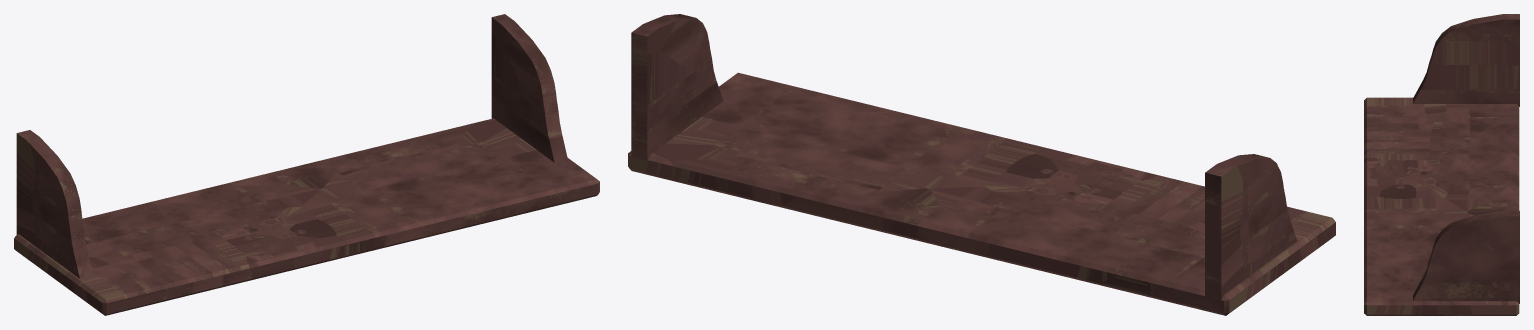
The picture shows the model from 3 angles, left to right: view 1: azimuth 30°, elevation 25°; view 2: azimuth 150°, elevation 25°; view 3: azimuth 270°, elevation 25°; orthographic projection. The views are drawn at different scales.
Parts seen in each view (by area): view 1: shelf_low; view 2: shelf_low; view 3: shelf_low.
Boxes of the visible parts, x1,y1,x2,y2 form: shelf_low: (14, 14, 599, 315); shelf_low: (628, 14, 1335, 315); shelf_low: (1364, 14, 1519, 315).
Size of the model in its own units: 628 by 141 by 201.
